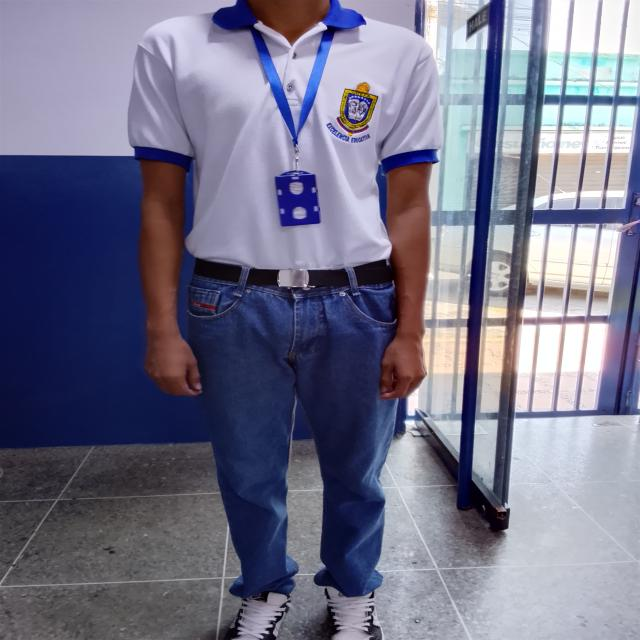carnet: (276, 174, 322, 225)
uniforme_superior: (127, 0, 443, 270)
